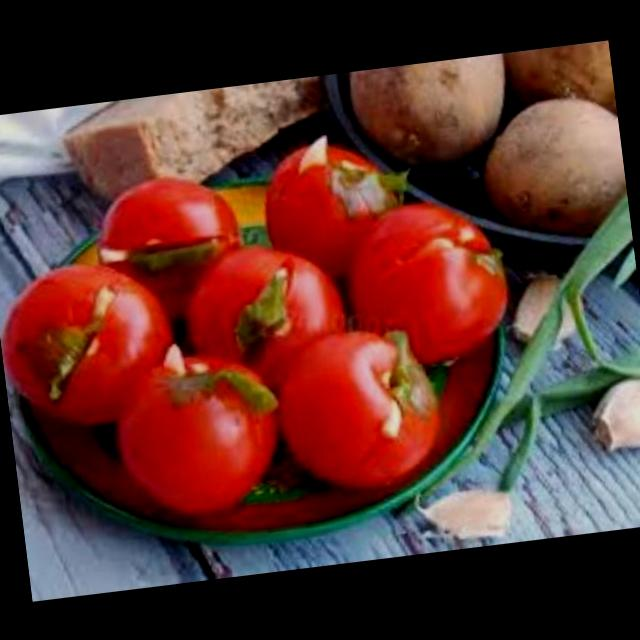Potato: (332, 38, 631, 259)
Tomato: (272, 307, 462, 503), (332, 184, 522, 366), (104, 338, 286, 528), (0, 256, 177, 443), (74, 160, 260, 332), (180, 240, 350, 400), (250, 123, 423, 270)
garlic: (409, 471, 528, 554), (503, 268, 584, 350), (573, 367, 640, 463)
